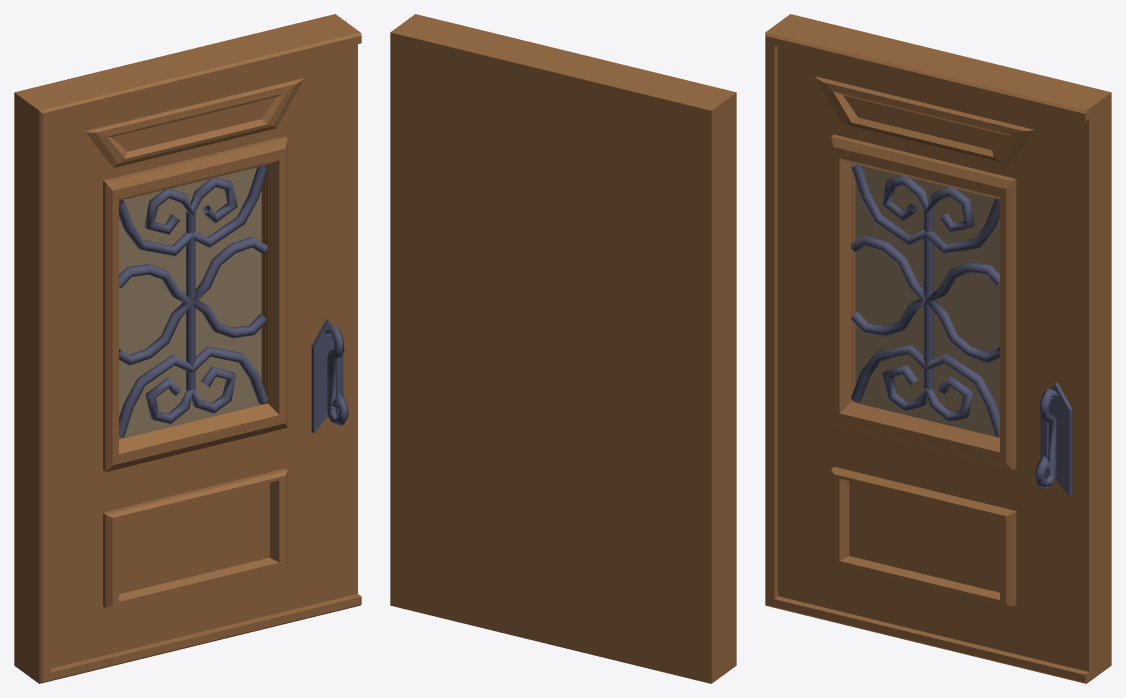
File: LeftDoubleDoor.fbx
3 renders of one model, left to right at view 1: azimuth 30°, elevation 25°; view 2: azimuth 150°, elevation 25°; view 3: azimuth 330°, elevation 25°, orthographic.
Parts seen in each view (by area): view 1: LeftDoubleDoor; view 2: LeftDoubleDoor; view 3: LeftDoubleDoor.
Part boxes in pixels (left/top/right/bottom): LeftDoubleDoor: left=14, top=14, right=361, bottom=683; LeftDoubleDoor: left=390, top=14, right=736, bottom=683; LeftDoubleDoor: left=765, top=14, right=1111, bottom=683.
Size of the model in its own units: 205 by 349 by 46.98.
3 materials, 2 textured.
